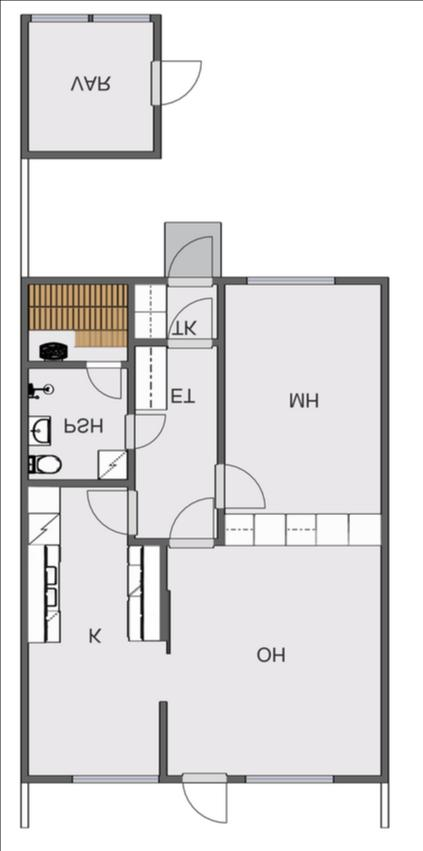door: (148, 57, 206, 108), (209, 463, 268, 512), (168, 494, 218, 550), (166, 294, 216, 350), (178, 773, 231, 825), (166, 234, 216, 288), (85, 486, 137, 535), (84, 360, 125, 404), (122, 414, 166, 452)
window: (237, 271, 346, 290), (238, 772, 342, 788), (65, 770, 164, 786), (89, 6, 156, 27), (23, 9, 92, 28)
